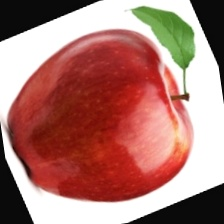apple: (40, 19, 218, 165)
